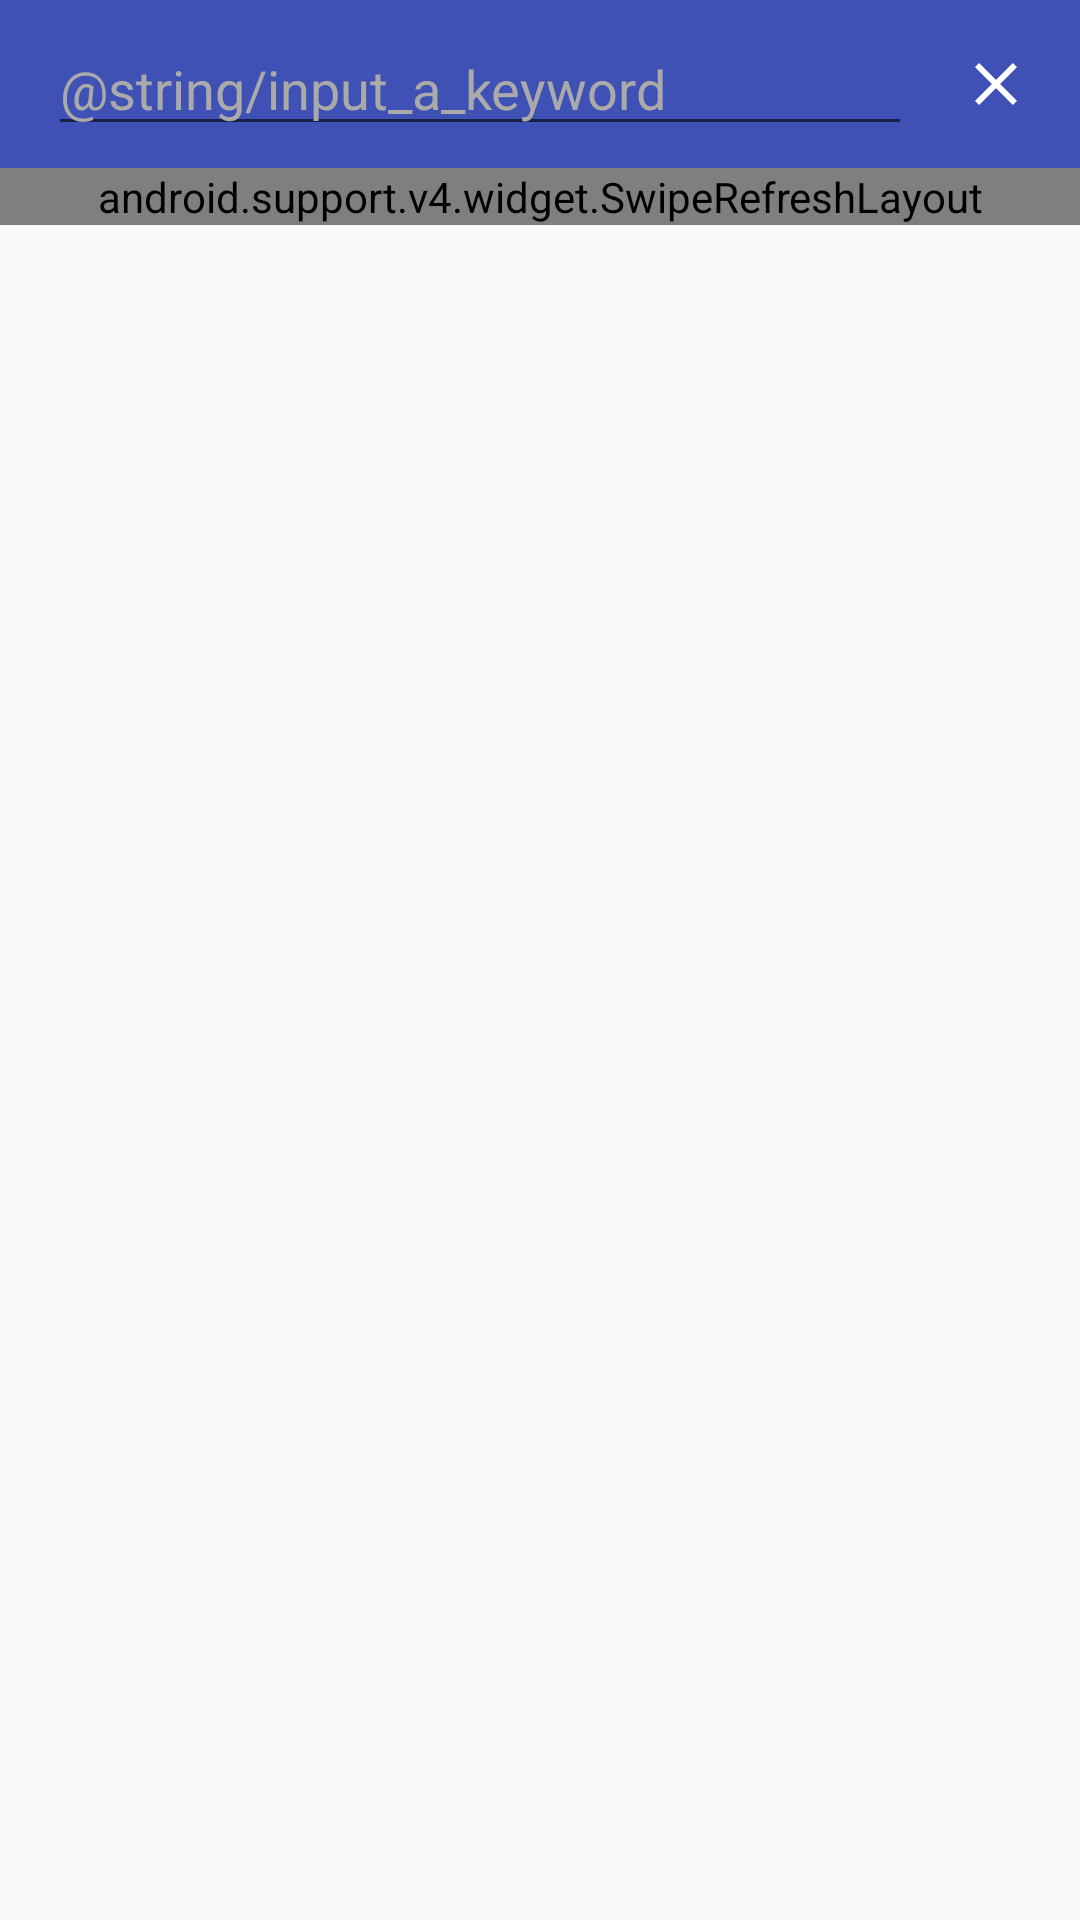

Icons on this 1080*1920 Android screen, each with its box as box(x1, y1, x2, y2):
clear: box(975, 63, 1017, 105)
